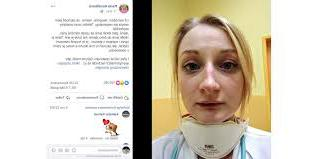mask_weared_incorrect: (177, 48, 236, 136)
